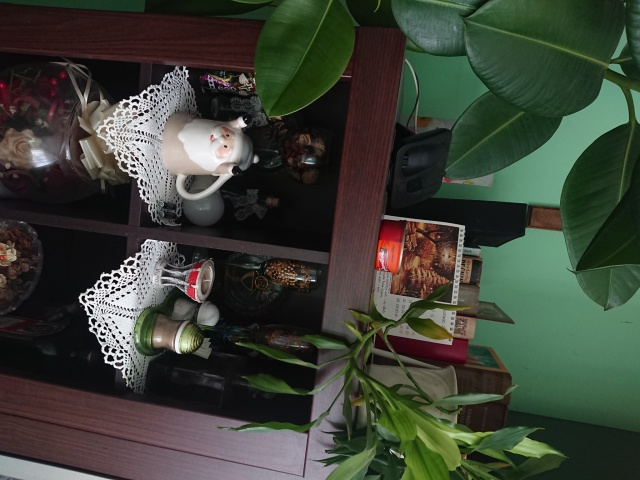Gavrilovic Pork Liver Pate 100g: (373, 217, 408, 275)
